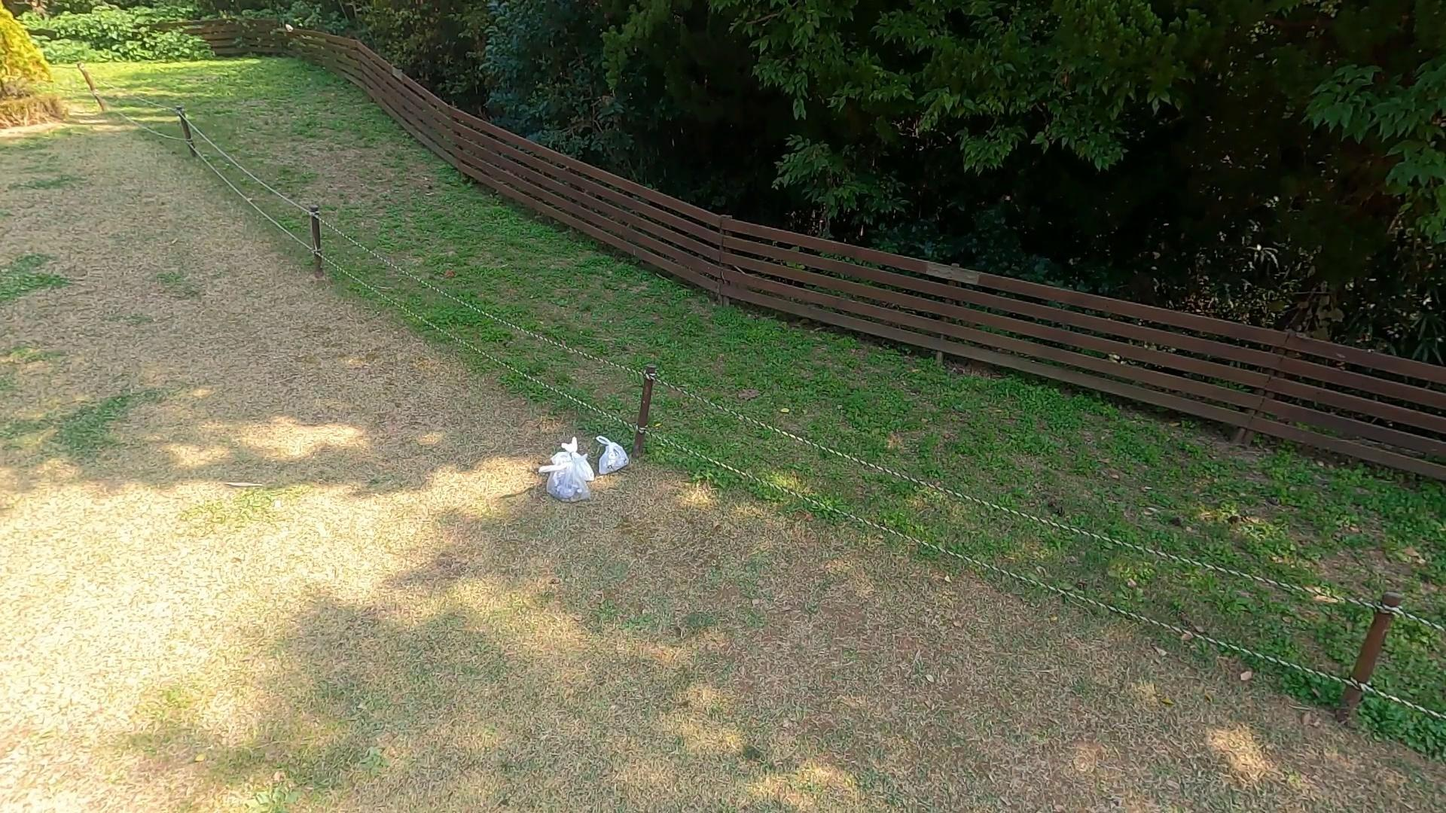trash: (546, 434, 596, 483), (543, 456, 592, 503), (594, 432, 632, 476)
